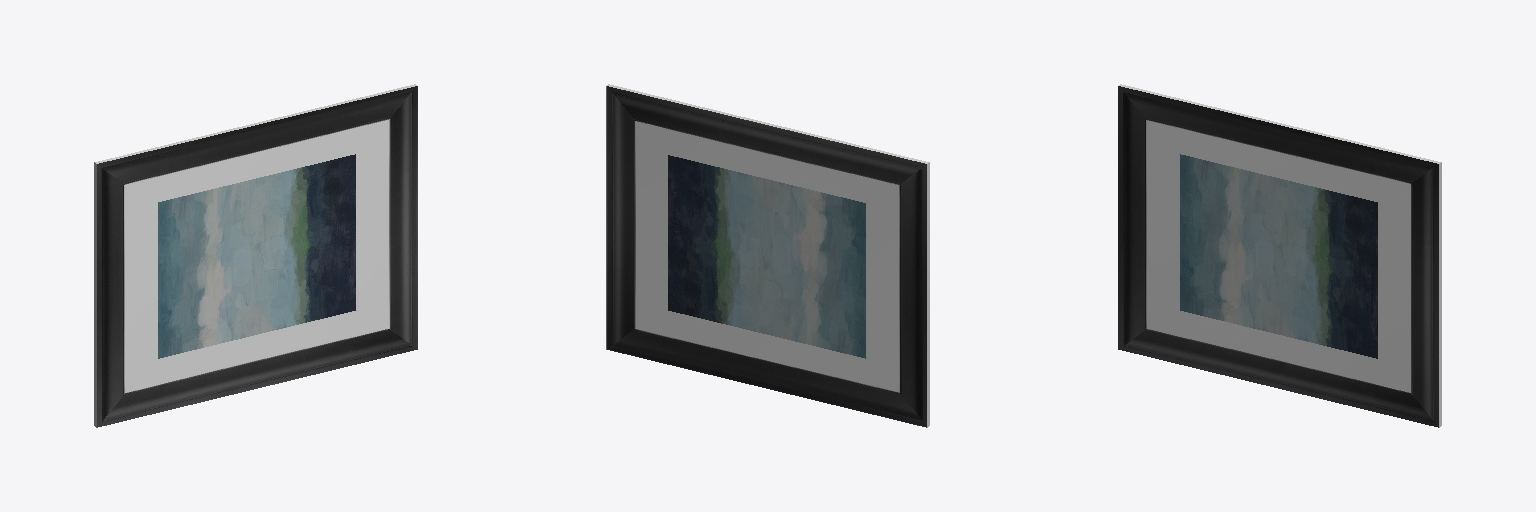
The picture shows the model from 3 angles: view 1: azimuth 30°, elevation 25°; view 2: azimuth 150°, elevation 25°; view 3: azimuth 330°, elevation 25°; orthographic projection.
Visible parts, largest first — view 1: Cube; view 2: Cube; view 3: Cube.
Part boxes in pixels (left/top/right/bottom): Cube: left=94, top=84, right=417, bottom=427; Cube: left=606, top=84, right=929, bottom=427; Cube: left=1118, top=84, right=1441, bottom=427.
Bounding box in the file's own units: 1.42 × 1.12 × 0.0179.
Materials: 1 (1 with a texture image).